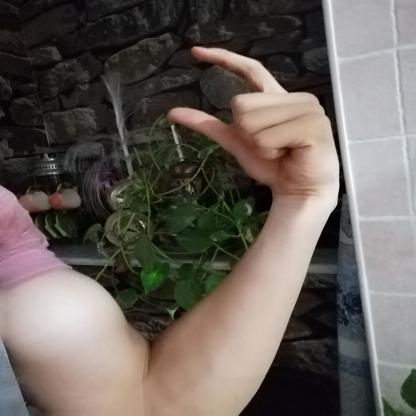DELL: (149, 37, 355, 204)
